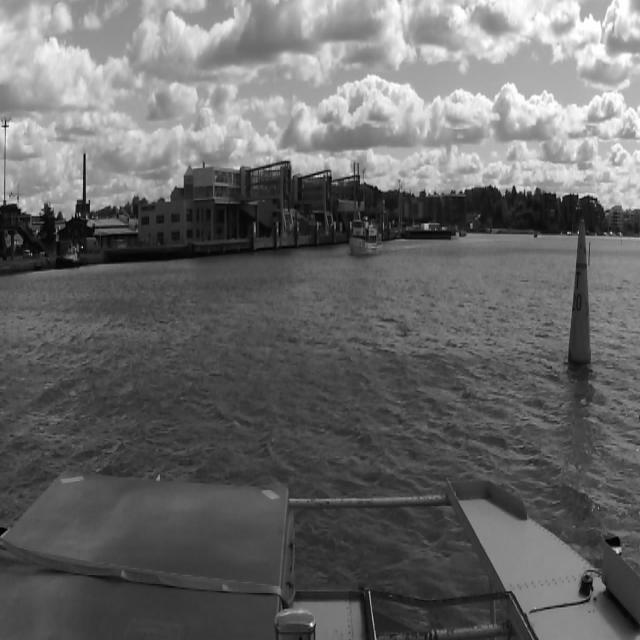buoy: (568, 216, 592, 371)
ship: (348, 210, 382, 257)
